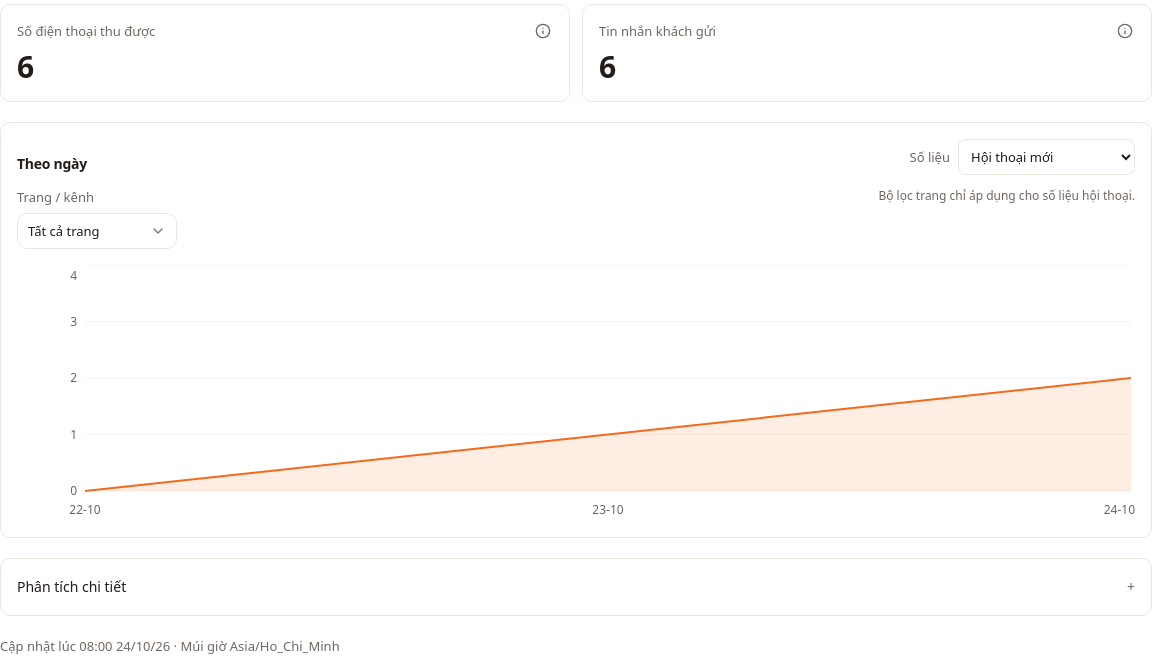
Test: StatisticsPage › a metric without a data source says so, instead of showing 0
(page scrolled)
Click the button "Phân tích chi tiết +".
click(72, 586)  # box left=1, top=559, right=1151, bottom=615
(page scrolled)
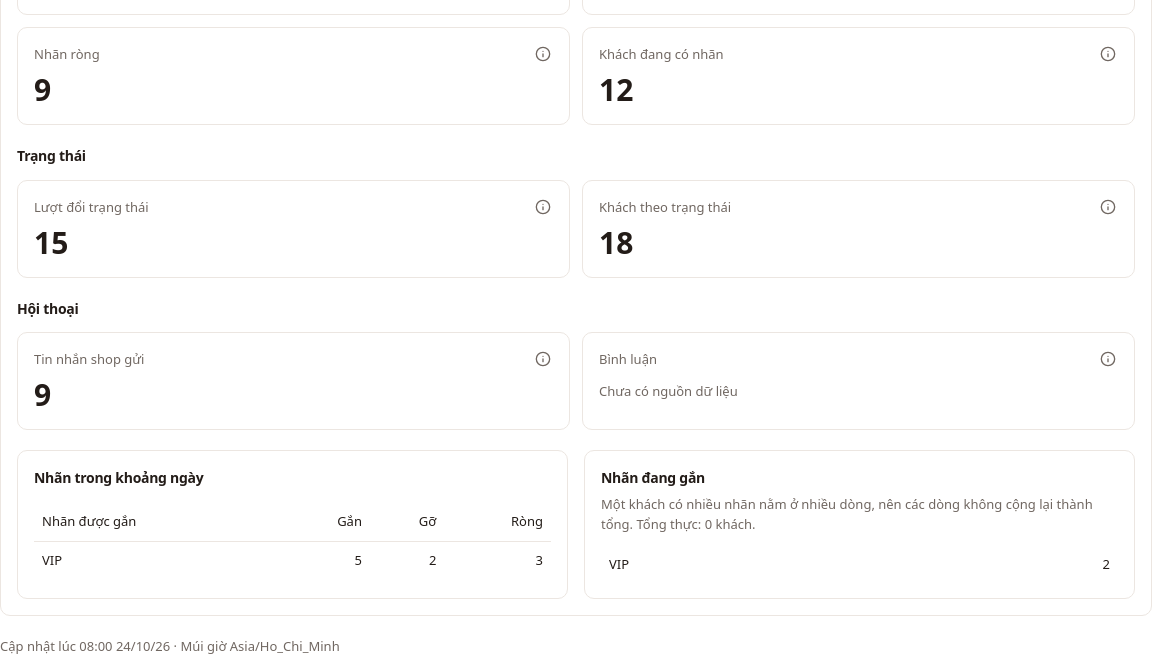
Result: the heading "Bình luận" is shown at left=599, top=349, right=657, bottom=369
Result: the text "Chưa có nguồn dữ liệu" is shown at left=599, top=382, right=738, bottom=400
